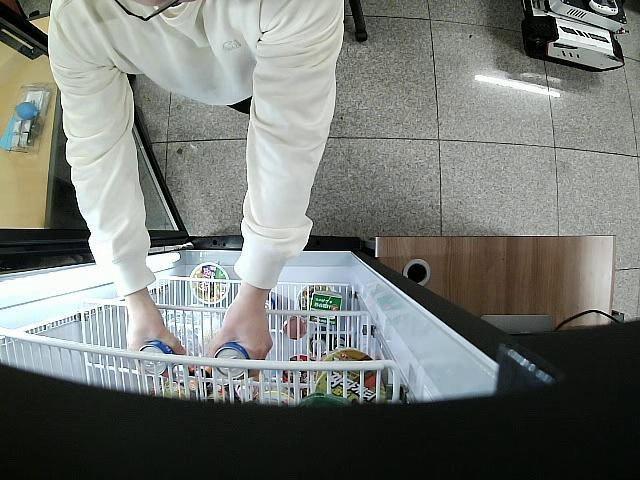15_letsbe: (214, 342, 250, 378), (137, 340, 174, 375)
